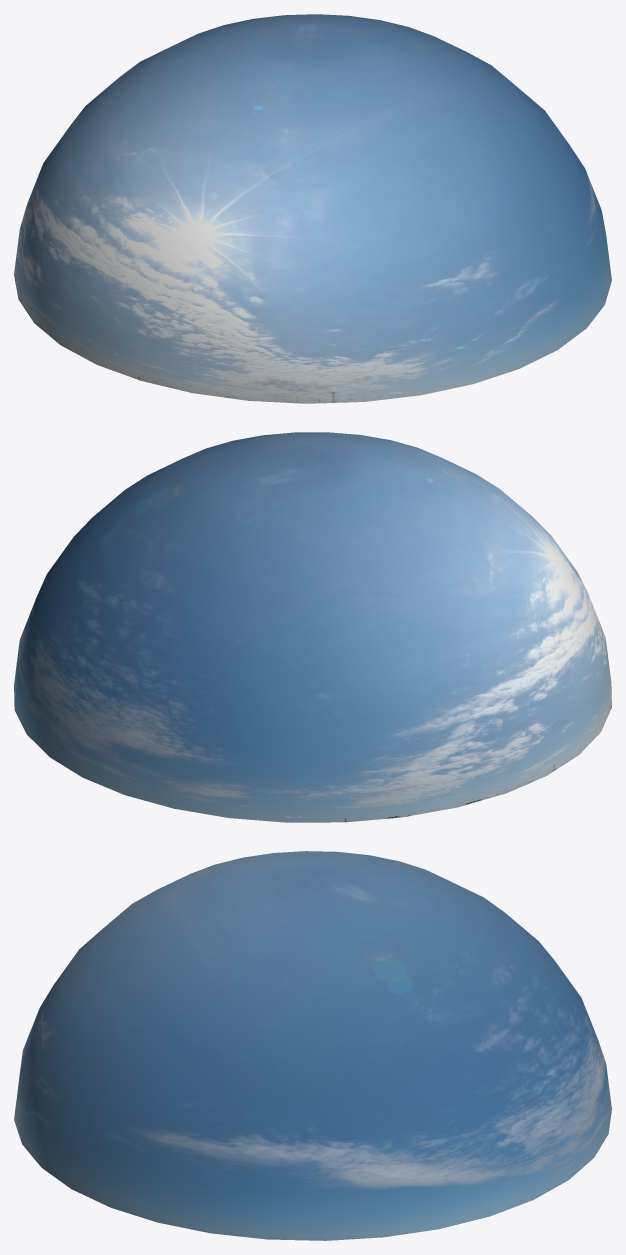
The model's file is circulo.fbx.
3 views of the same model, one above another, from view 1: azimuth 30°, elevation 25°; view 2: azimuth 150°, elevation 25°; view 3: azimuth 270°, elevation 25° (orthographic).
Visible parts, largest first — view 1: ad8d69be-dbce-41cd-9587-b4fcdd2c6b03; view 2: ad8d69be-dbce-41cd-9587-b4fcdd2c6b03; view 3: ad8d69be-dbce-41cd-9587-b4fcdd2c6b03.
Part boxes in pixels (bbox=[...]): ad8d69be-dbce-41cd-9587-b4fcdd2c6b03: bbox=[14, 14, 611, 403]; ad8d69be-dbce-41cd-9587-b4fcdd2c6b03: bbox=[14, 432, 611, 822]; ad8d69be-dbce-41cd-9587-b4fcdd2c6b03: bbox=[14, 851, 611, 1240].
Bounding box in the file's own units: 2063699 × 884847 × 2063698.
Materials: 6 (3 with a texture image).
